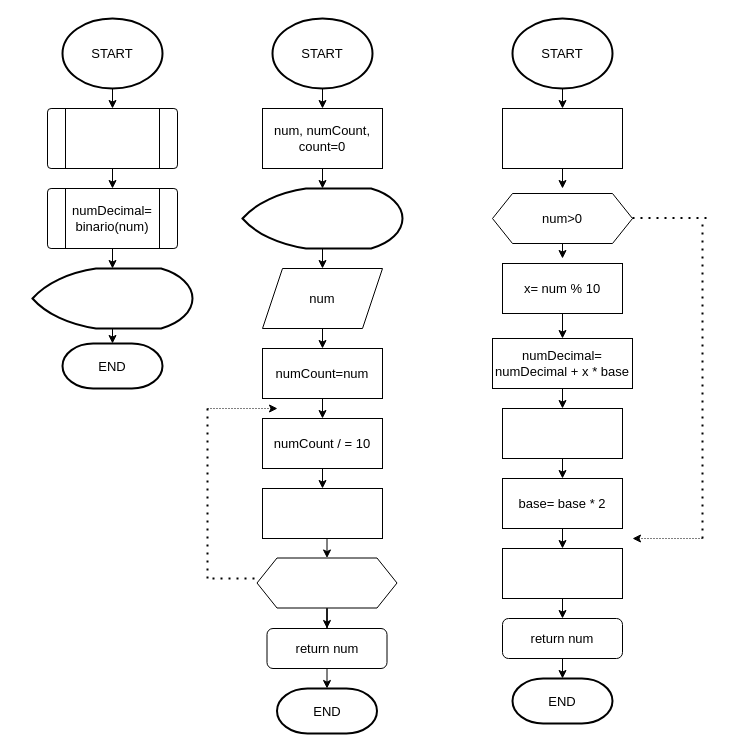
Image size: 731x751. Some labels were removed from this diagram. The centre of each missing label's shape, as x and y in pixels:
"++count" belongs at [322,513].
"El resultat en decimal és numDecimal" belongs at [112,298].
"Introdueix el nombre en format binari amb menys de 8 dígits:" belongs at [322,218].
"num= num / 10" belongs at [562,433].
"num= numDecimal" belongs at [562,573].
"num= validate()" belongs at [112,138].
"numCount != 0" belongs at [326,582].
"numDecimal=0, base=1, x" belongs at [562,138].
